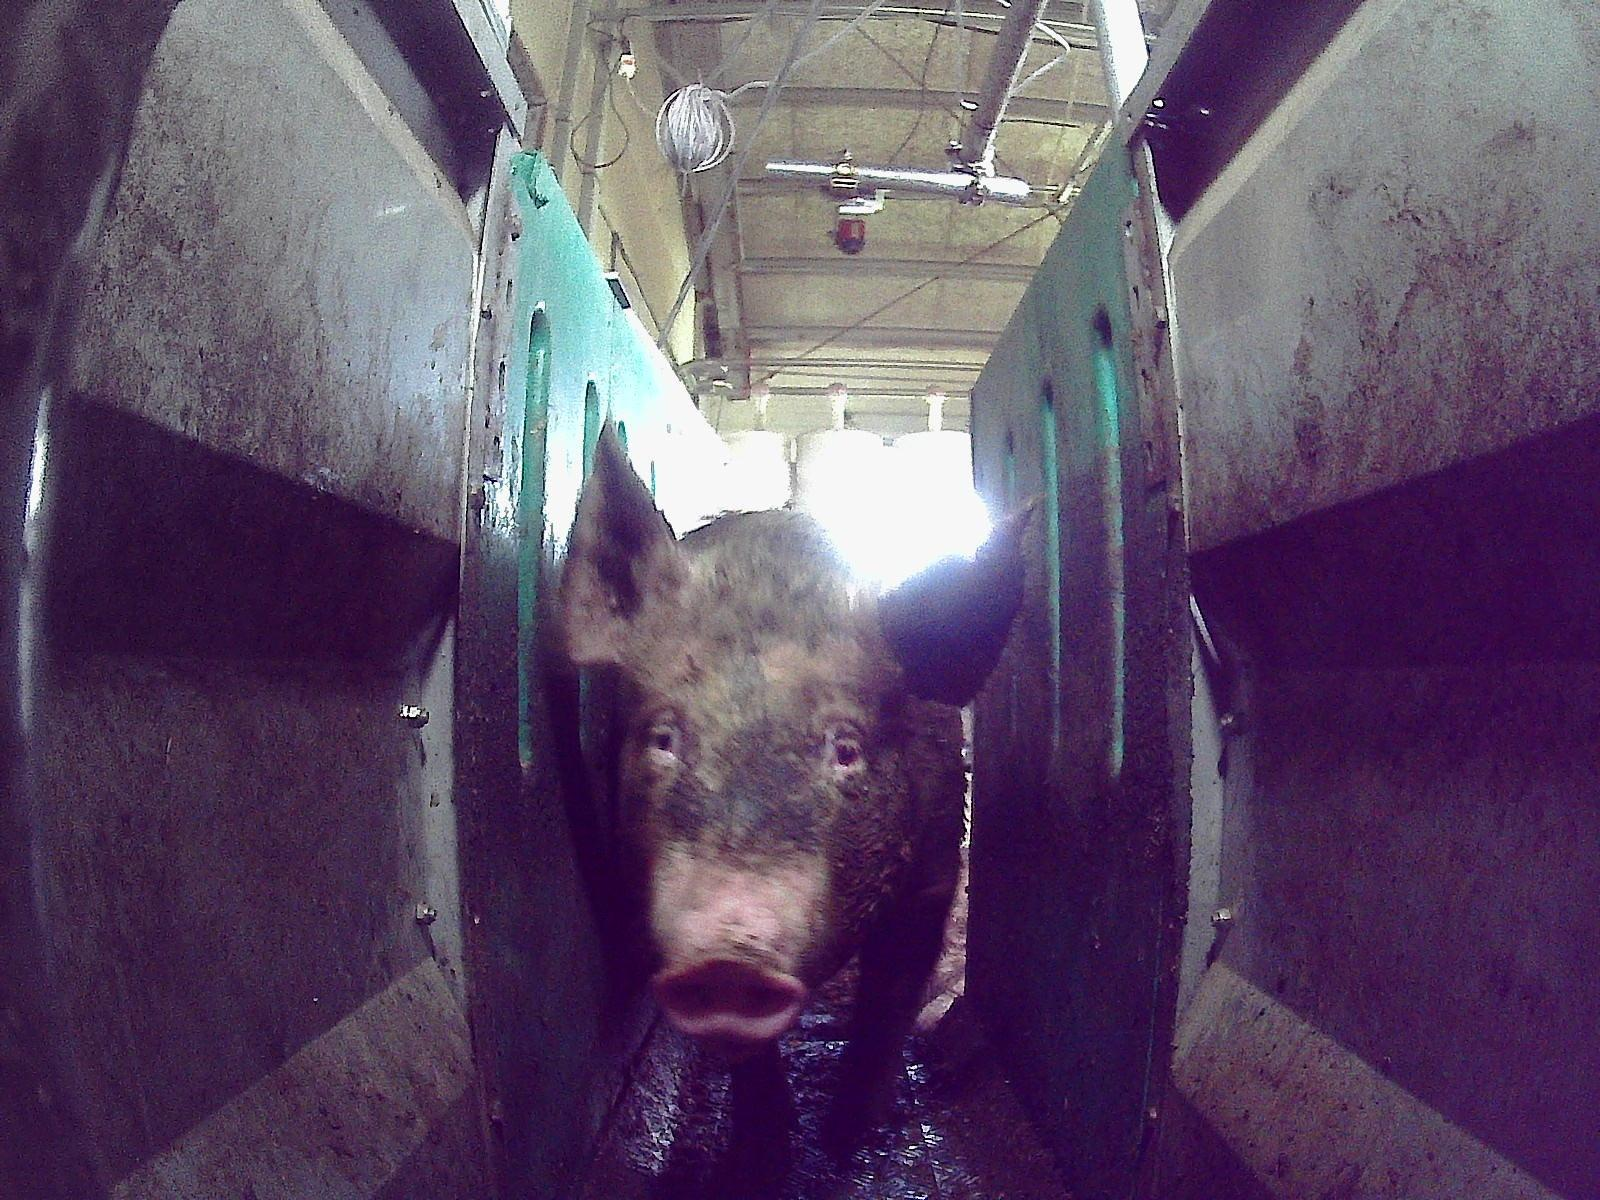Face: (616, 583, 896, 1046)
